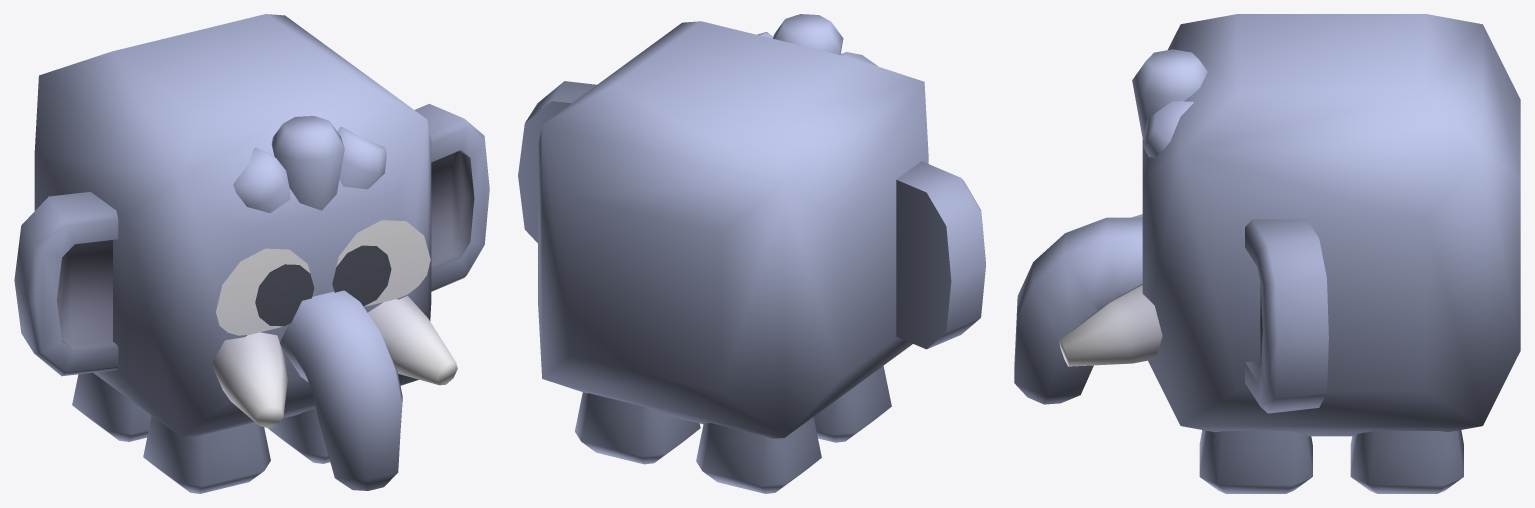
File: animal-elephant.obj
3 views of the same model, side by side, from view 1: azimuth 30°, elevation 25°; view 2: azimuth 150°, elevation 25°; view 3: azimuth 270°, elevation 25° (orthographic). The views are drawn at different scales.
Parts seen in each view (by area): view 1: body, tail, leg-front-right, leg-back-right, leg-front-left; view 2: body, leg-back-right, leg-back-left, leg-front-right; view 3: body, tail, leg-back-left, leg-front-left.
Boxes of the visible parts, x1,y1,x2,y2 form: body: [14, 14, 489, 437]; tail: [280, 290, 402, 490]; leg-front-right: [143, 416, 270, 493]; leg-back-right: [72, 372, 151, 441]; leg-front-left: [268, 408, 329, 463]; body: [518, 14, 985, 438]; leg-back-right: [696, 417, 821, 493]; leg-back-left: [575, 392, 700, 464]; leg-front-right: [813, 366, 891, 442]; body: [1059, 14, 1520, 436]; tail: [1014, 217, 1142, 404]; leg-back-left: [1350, 430, 1463, 493]; leg-front-left: [1199, 430, 1312, 493].
Bounding box in the file's own units: 1.88 × 1.43 × 1.68.
